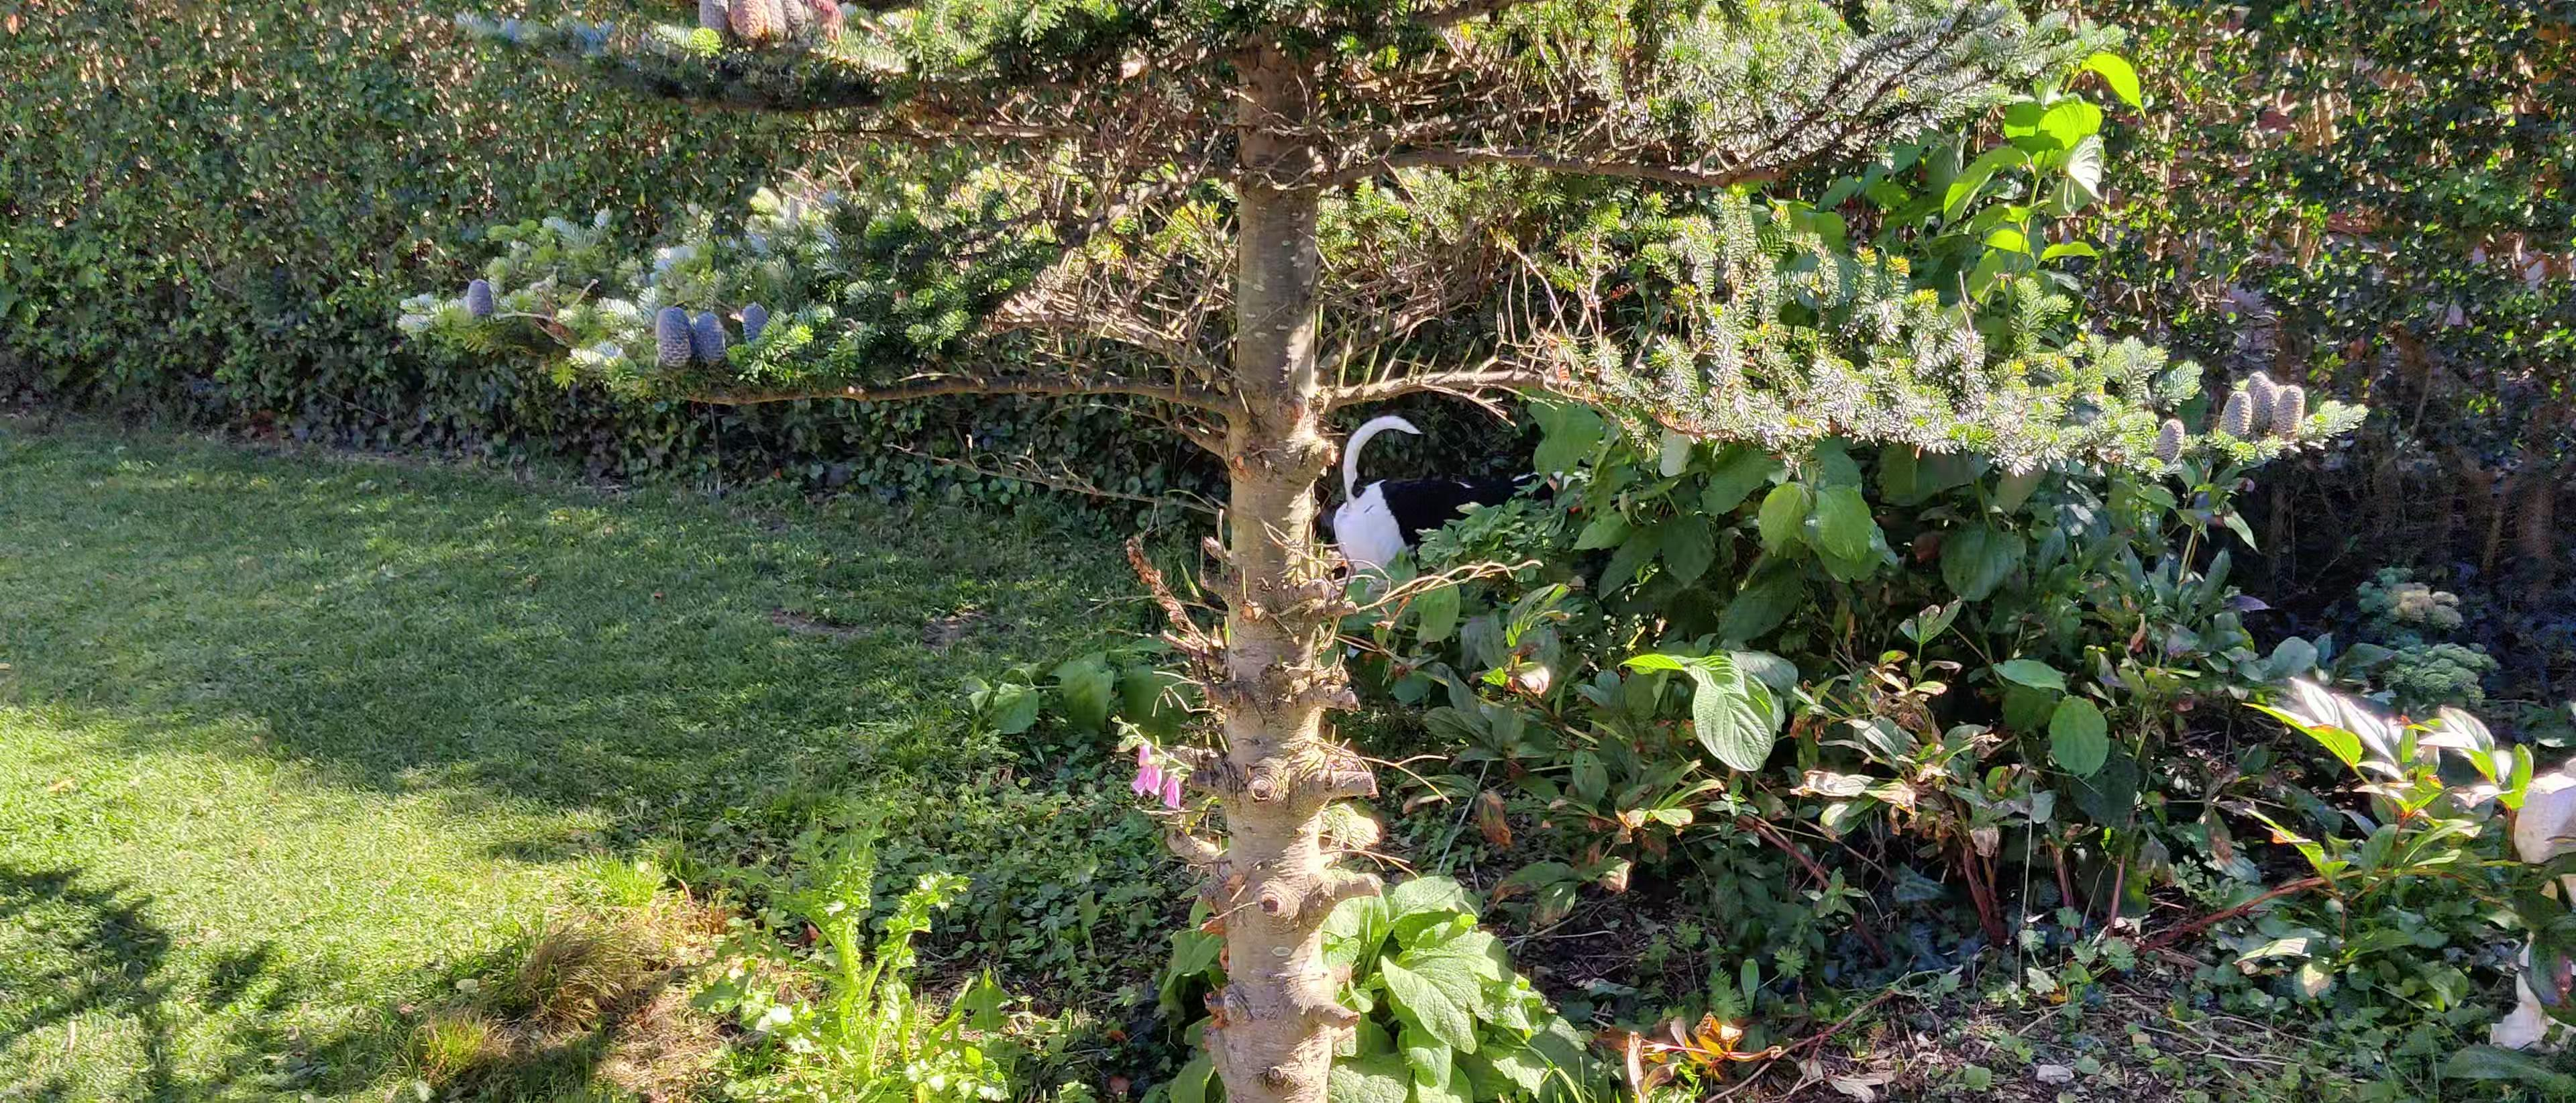Dog: (1336, 413, 1628, 577)
